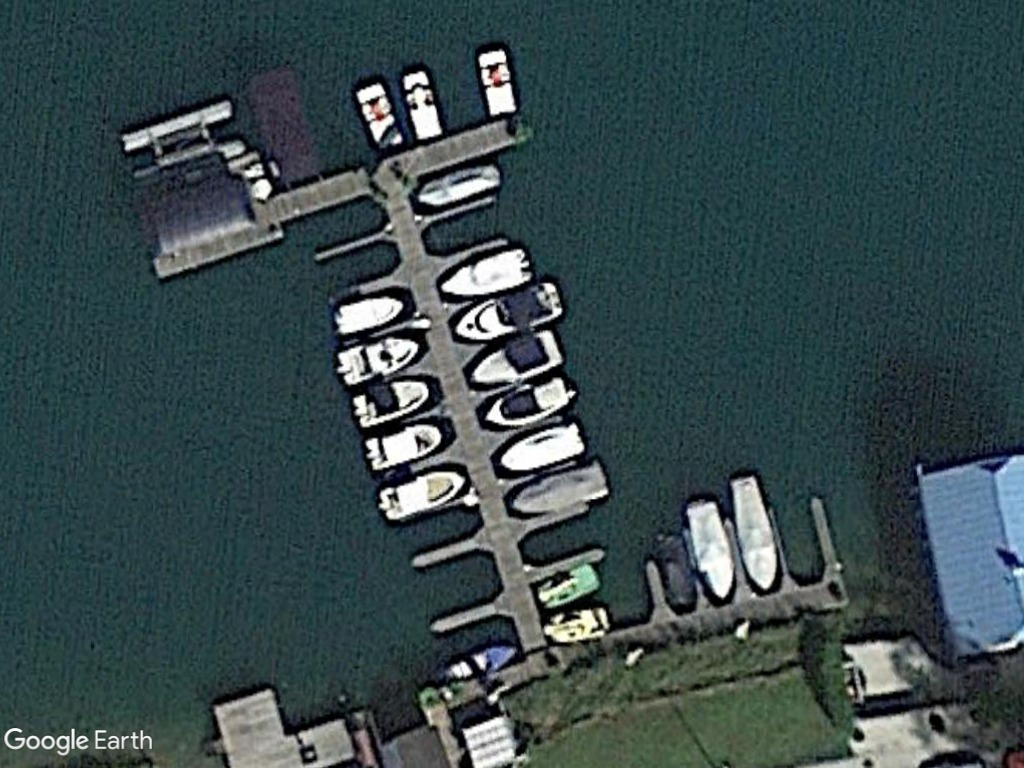boat: (506, 448, 616, 525), (448, 276, 566, 347), (724, 470, 780, 595), (464, 325, 567, 390), (680, 493, 737, 606), (436, 241, 535, 302), (480, 371, 577, 433), (334, 328, 421, 392), (375, 467, 467, 527), (360, 415, 446, 478), (496, 420, 587, 478), (348, 375, 432, 432), (412, 160, 501, 210), (329, 292, 405, 343)
